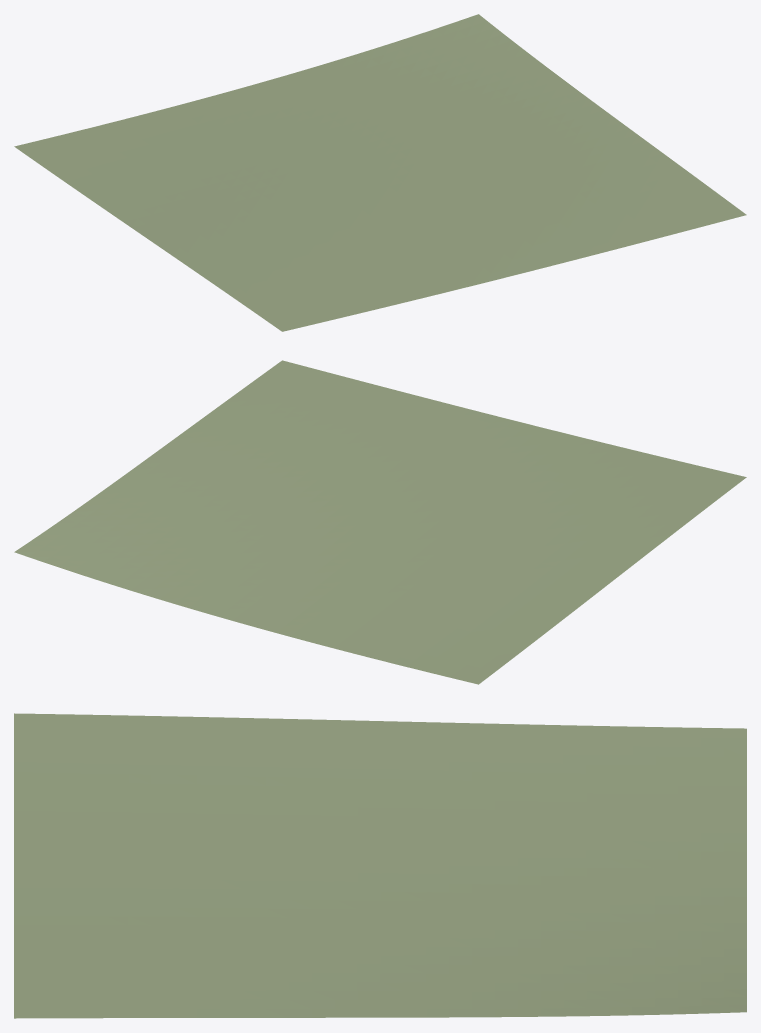
The model's file is expanse-21-30.glb.
The picture shows the model from 3 angles, top to bottom: view 1: azimuth 30°, elevation 25°; view 2: azimuth 150°, elevation 25°; view 3: azimuth 270°, elevation 25°; orthographic projection. The views are drawn at different scales.
Parts seen in each view (by area): view 1: expanse-21-30; view 2: expanse-21-30; view 3: expanse-21-30.
Part boxes in pixels (x1,y1,x2,y2): expanse-21-30: [14, 14, 746, 331]; expanse-21-30: [14, 360, 746, 684]; expanse-21-30: [14, 713, 746, 1018].
Bounding box in the file's own units: 256 × 10.07 × 256.
